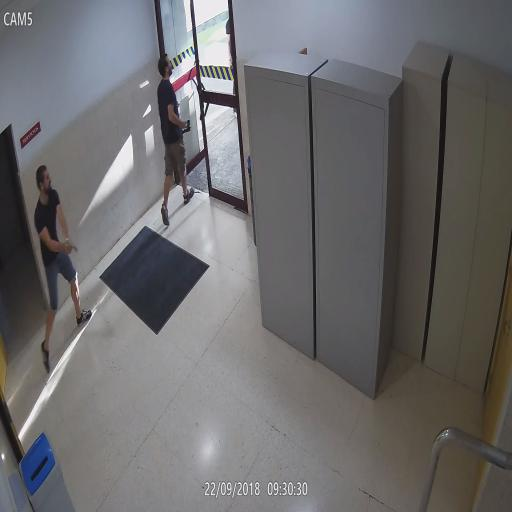Handgun: (64, 236, 78, 256), (182, 117, 192, 137)
